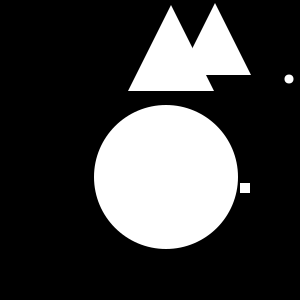circle: (240, 183, 250, 193)
rectangle: (94, 105, 238, 249), (284, 74, 294, 84)
triangle: (128, 5, 214, 91), (179, 3, 251, 75)
